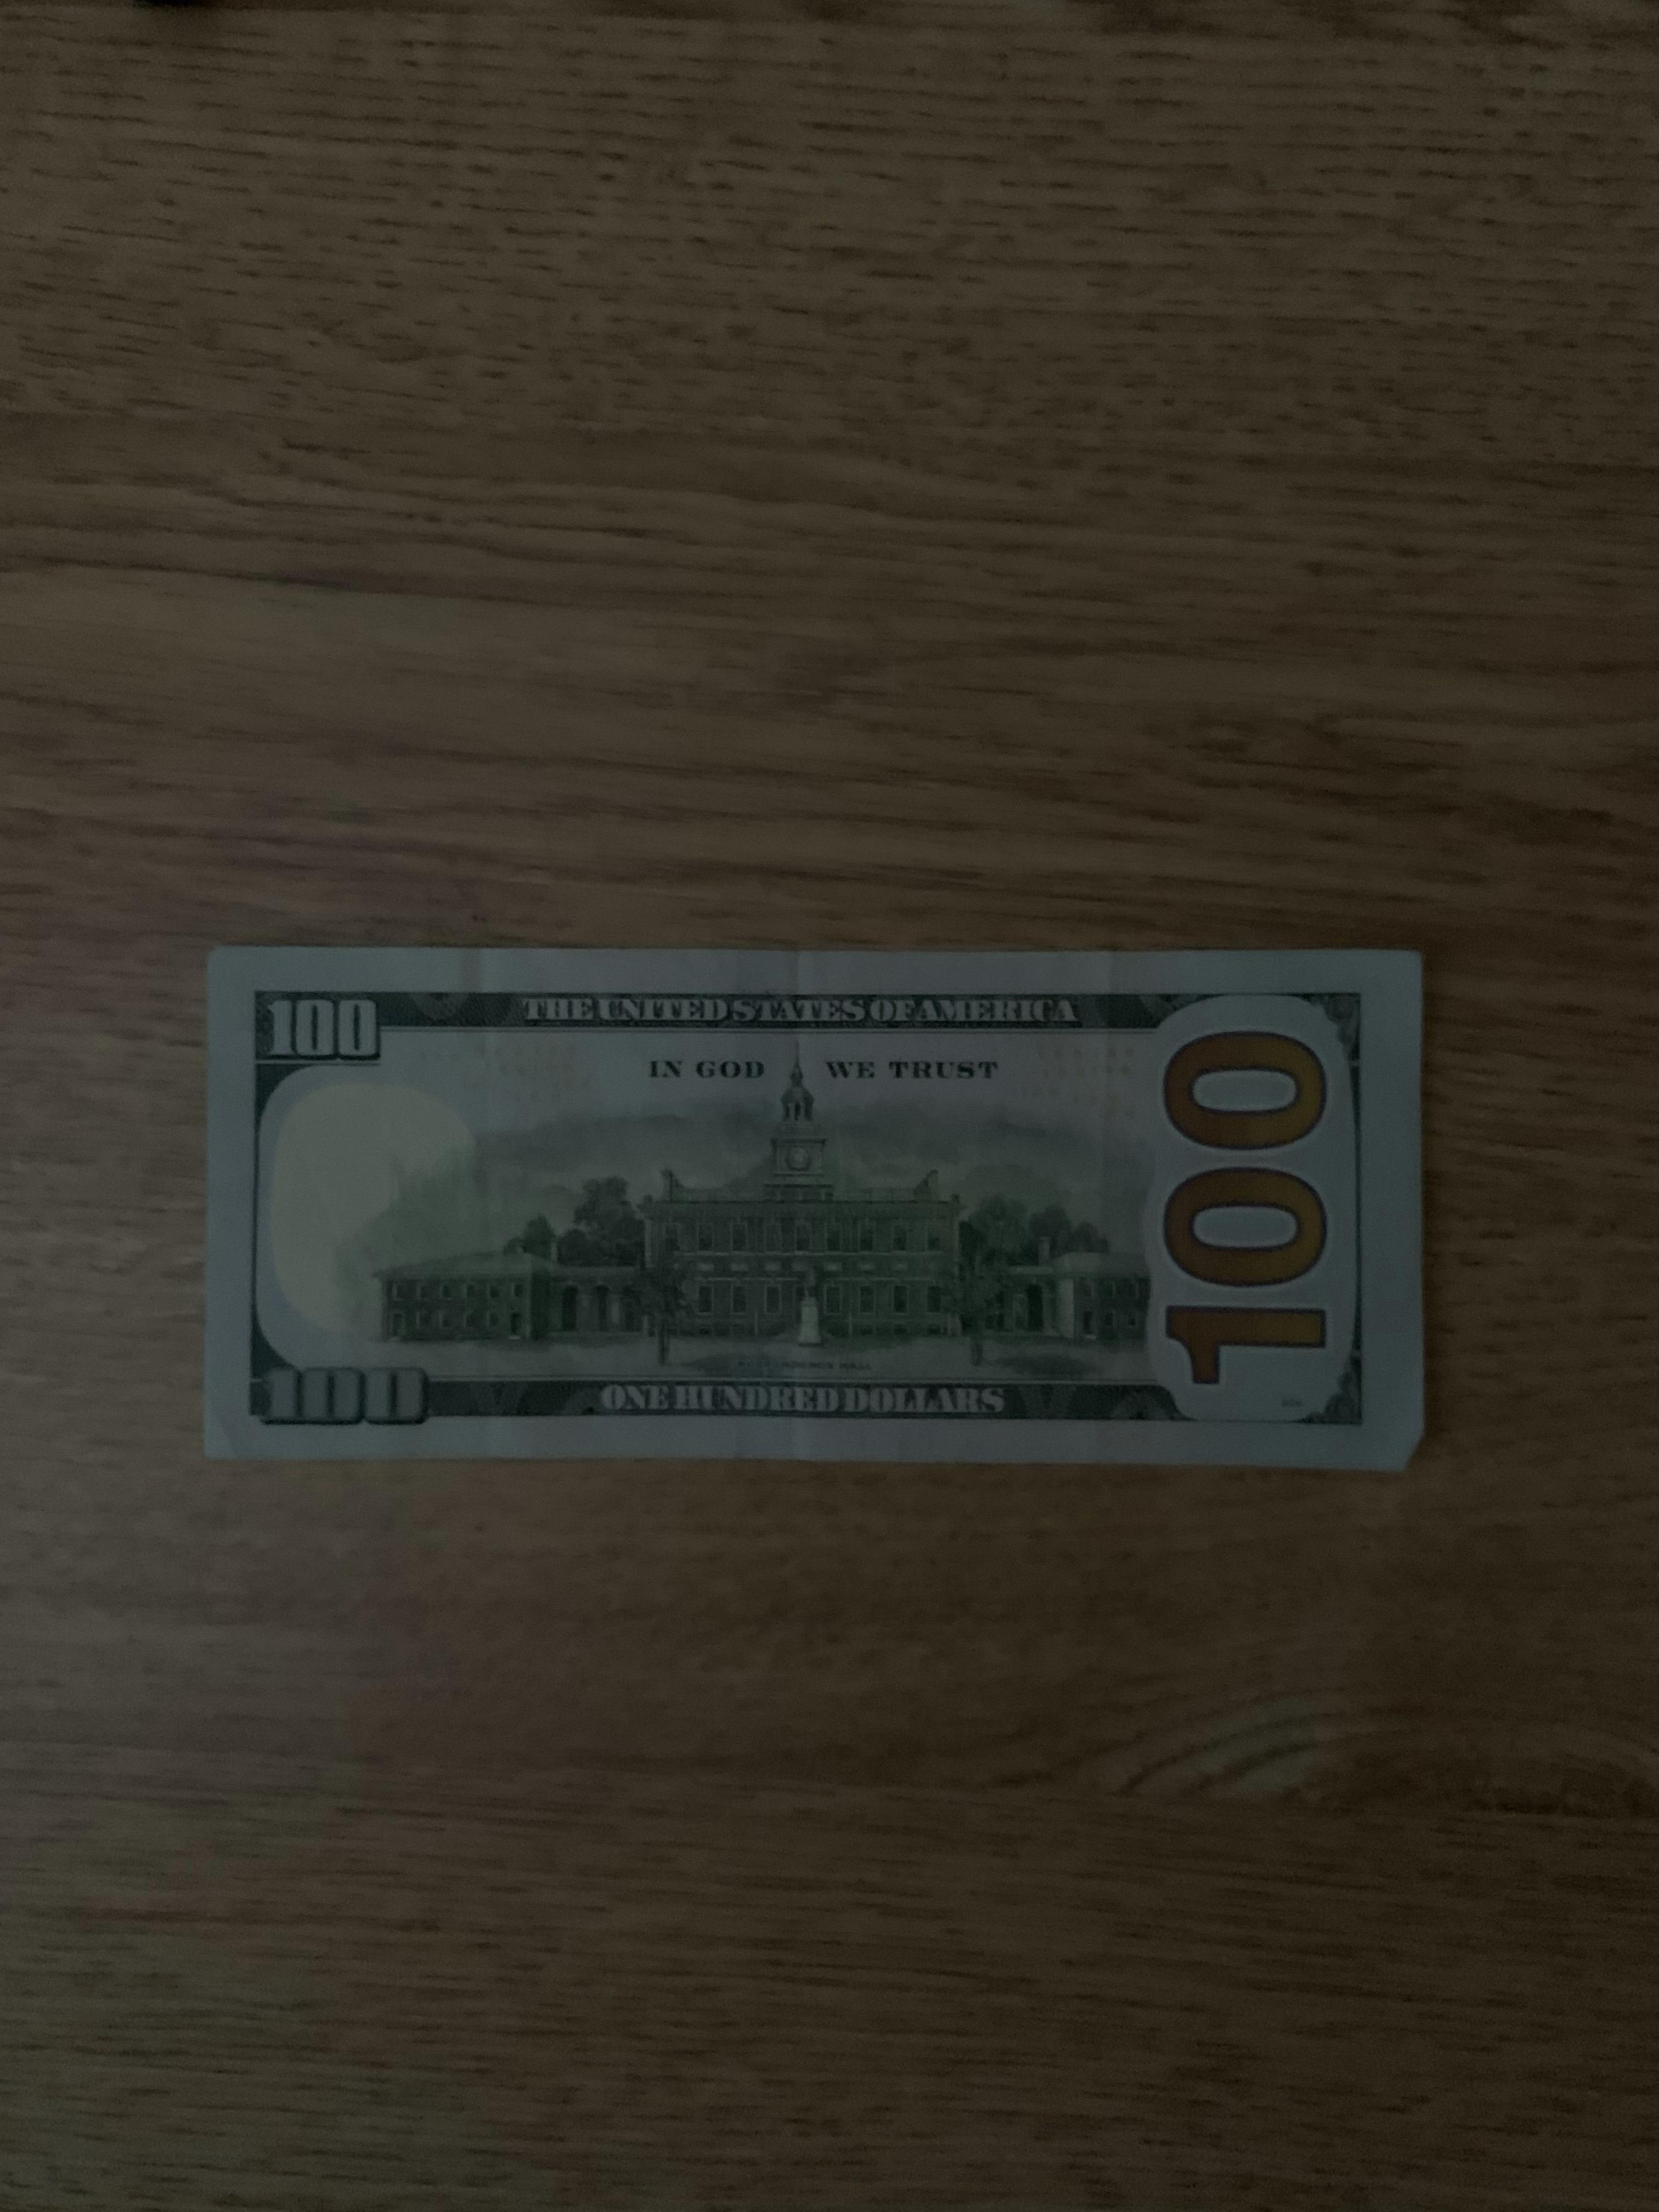HundredBill: (188, 937, 1434, 1475)
